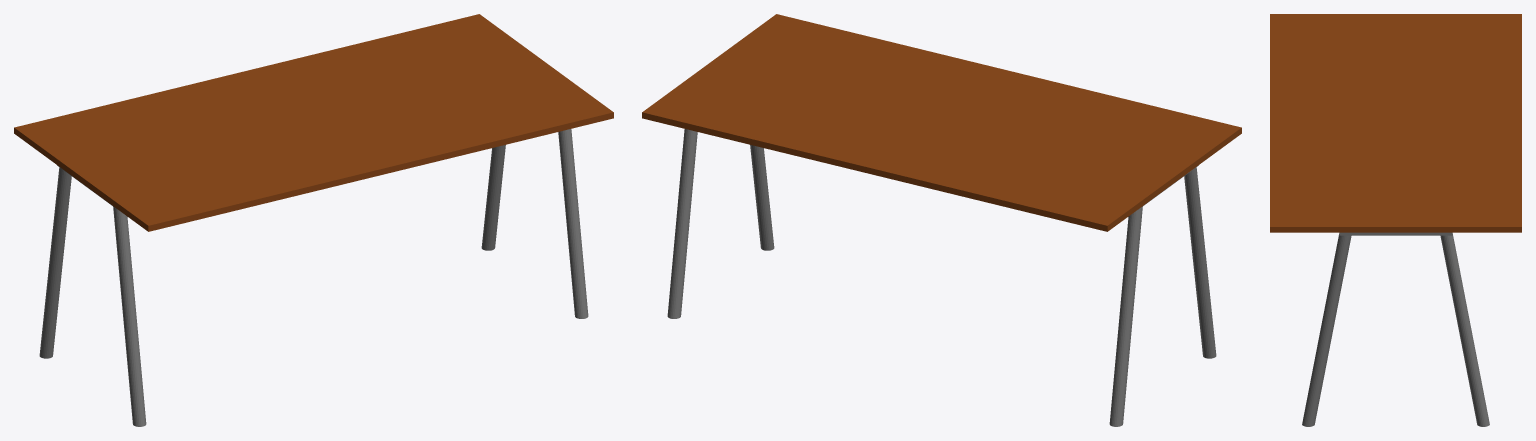
The picture shows the model from 3 angles, left to right: view 1: azimuth 30°, elevation 25°; view 2: azimuth 150°, elevation 25°; view 3: azimuth 270°, elevation 25°; orthographic projection. The views are drawn at different scales.
Visible parts, largest first — view 1: Mesh1 Galant_160_x_80_1 Model; view 2: Mesh1 Galant_160_x_80_1 Model; view 3: Mesh1 Galant_160_x_80_1 Model.
Boxes of the visible parts, <box> form: Mesh1 Galant_160_x_80_1 Model: <box>14,14,613,426</box>; Mesh1 Galant_160_x_80_1 Model: <box>642,14,1241,426</box>; Mesh1 Galant_160_x_80_1 Model: <box>1270,14,1521,426</box>.
Size of the model in its own units: 0.8313 by 0.3689 by 0.4157.
